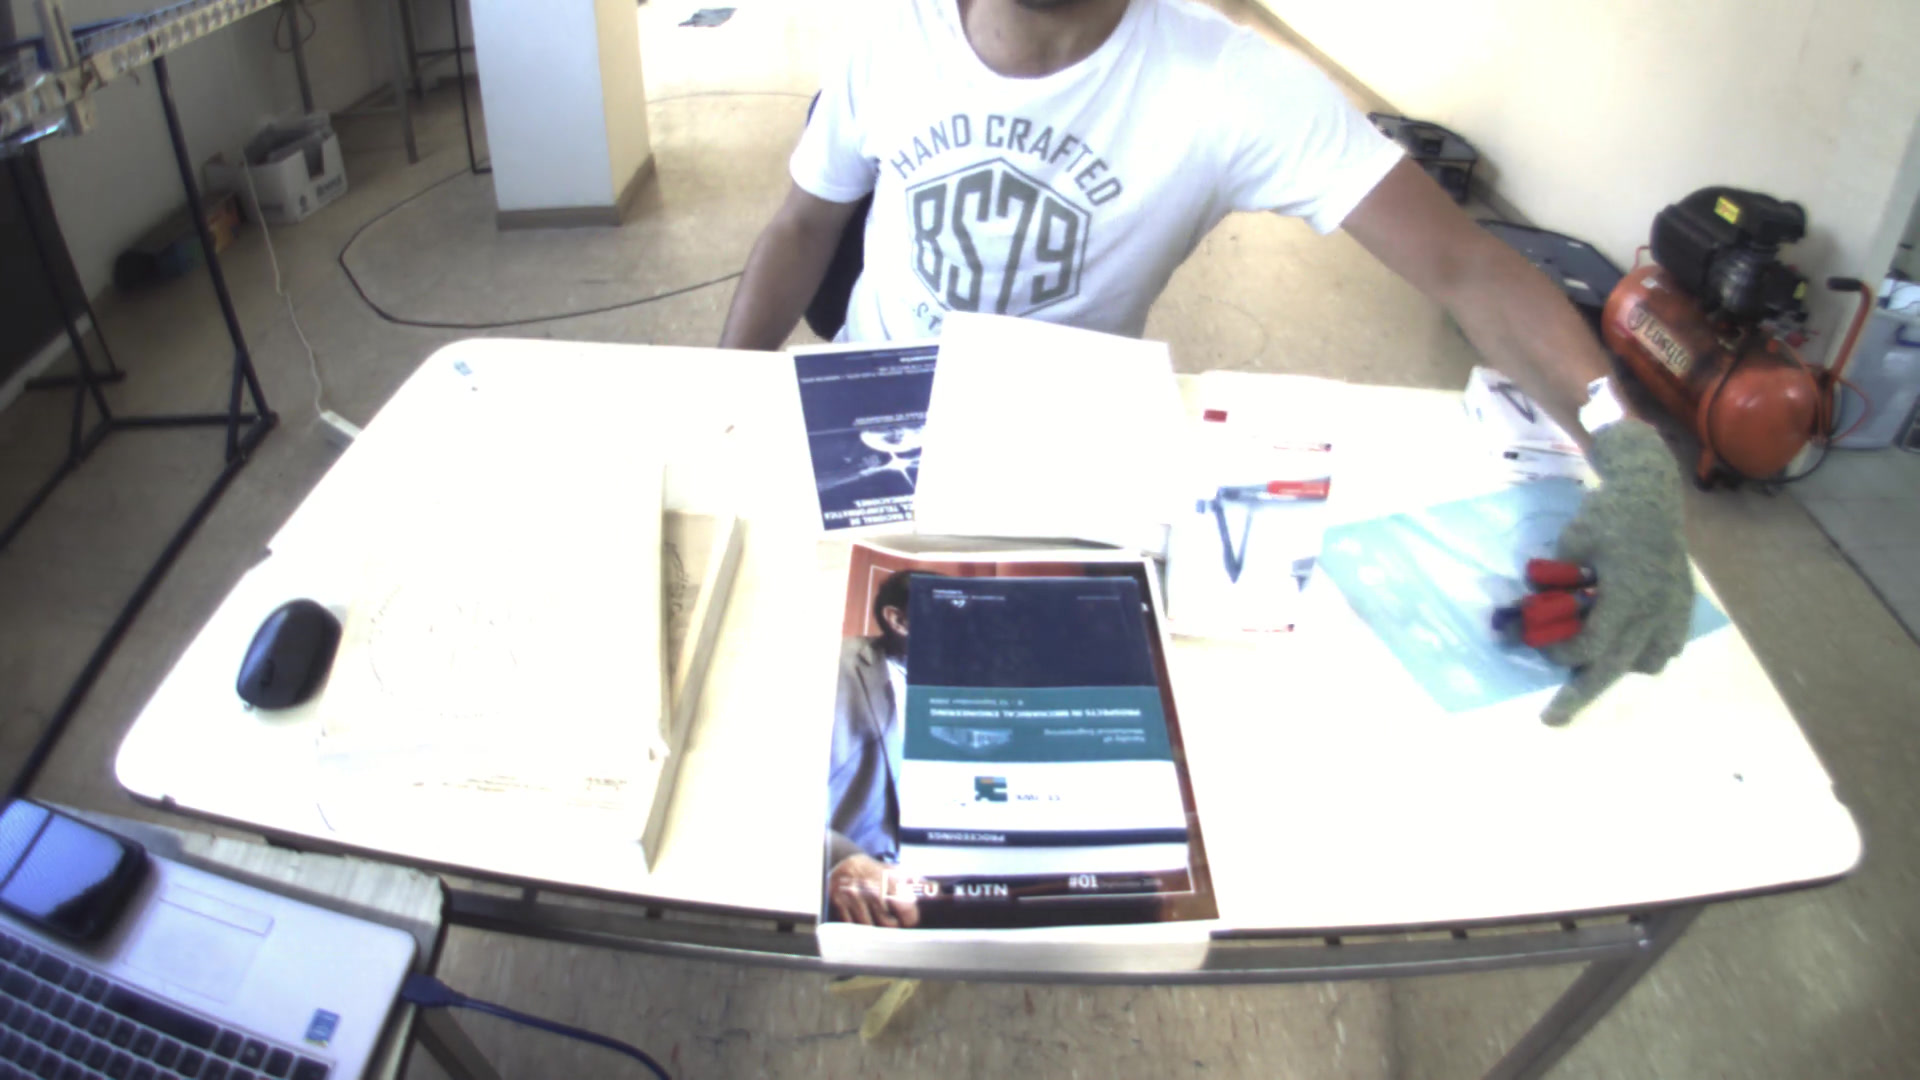hand: (1528, 417, 1702, 732)
